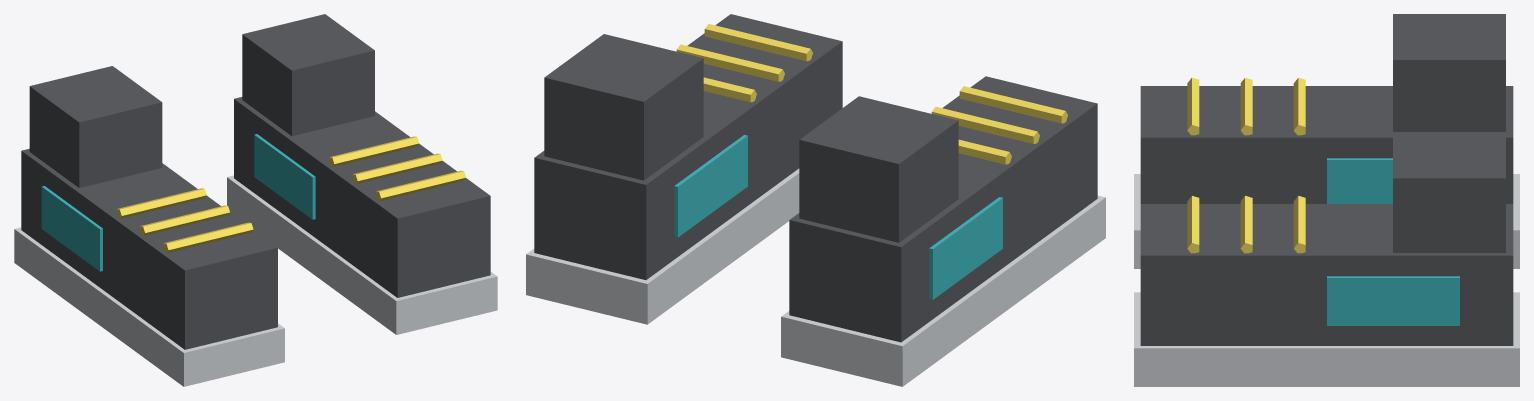
File: skate-shoes.glb
3 renders of one model, left to right at view 1: azimuth 30°, elevation 25°; view 2: azimuth 150°, elevation 25°; view 3: azimuth 270°, elevation 25°, orthographic. The views are drawn at different scales.
Visible parts, largest first — view 1: skate-shoes-charcoal, skate-shoes-steel, skate-shoes-canary, skate-shoes-teal; view 2: skate-shoes-charcoal, skate-shoes-steel, skate-shoes-teal, skate-shoes-canary; view 3: skate-shoes-charcoal, skate-shoes-steel, skate-shoes-teal, skate-shoes-canary.
Boxes of the visible parts, bbox=[...] form: skate-shoes-charcoal: bbox=[21, 14, 490, 349]; skate-shoes-steel: bbox=[14, 175, 497, 386]; skate-shoes-canary: bbox=[116, 136, 465, 252]; skate-shoes-teal: bbox=[41, 134, 315, 271]; skate-shoes-charcoal: bbox=[534, 14, 1097, 342]; skate-shoes-steel: bbox=[526, 168, 1105, 386]; skate-shoes-teal: bbox=[674, 135, 1002, 299]; skate-shoes-canary: bbox=[676, 24, 1067, 164]; skate-shoes-charcoal: bbox=[1140, 14, 1513, 345]; skate-shoes-steel: bbox=[1134, 174, 1519, 386]; skate-shoes-teal: bbox=[1327, 158, 1459, 325]; skate-shoes-canary: bbox=[1187, 77, 1305, 253].
Size of the model in its own units: 0.31 by 0.169 by 0.29.
